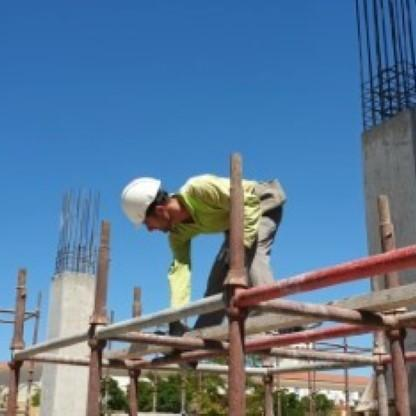helmet: (116, 178, 184, 237)
